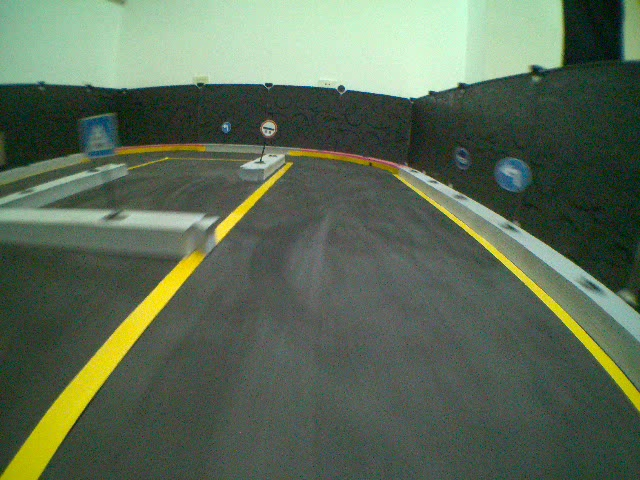Check: (260, 119, 276, 137)
horn: (453, 146, 470, 171)
turn: (494, 156, 534, 194), (220, 120, 232, 135)
